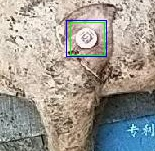text: (70, 22, 104, 55)
